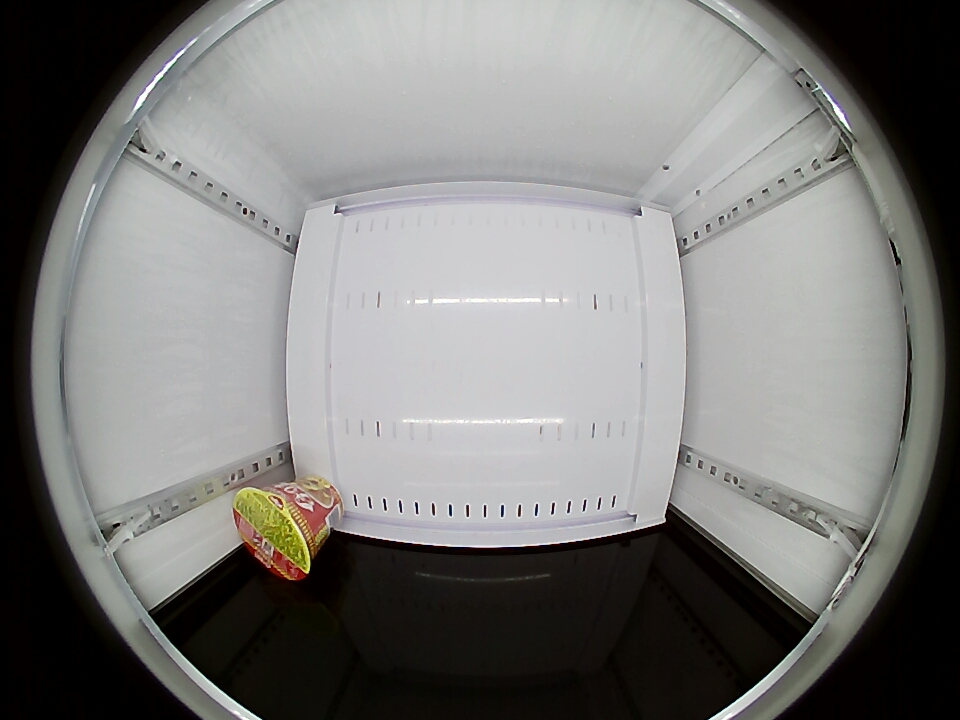heweidao3: (232, 483, 321, 581)
